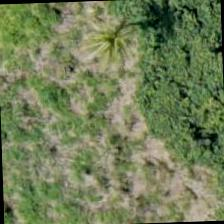Kelapa_Sawit: (65, 0, 159, 80)
